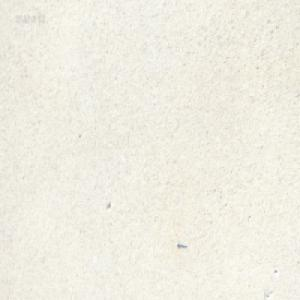Nail: (176, 240, 187, 248)
